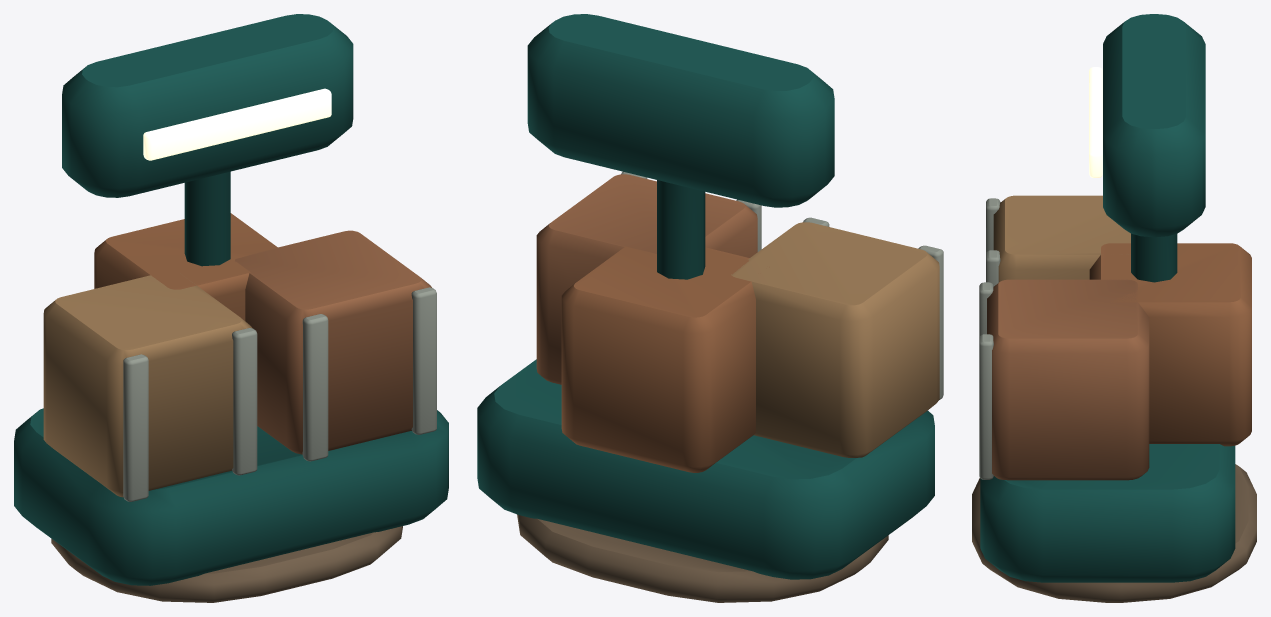
The model's file is event_truck.glb.
3 views of the same model, side by side, from view 1: azimuth 30°, elevation 25°; view 2: azimuth 150°, elevation 25°; view 3: azimuth 270°, elevation 25° (orthographic). The views are drawn at different scales.
Parts seen in each view (by area): view 1: EventTruck; view 2: EventTruck; view 3: EventTruck.
Part boxes in pixels (x1,y1,x2,y2): EventTruck: (14, 14, 448, 602); EventTruck: (477, 14, 943, 602); EventTruck: (972, 14, 1256, 602).
Size of the model in its own units: 1.2 by 1.53 by 0.86.
